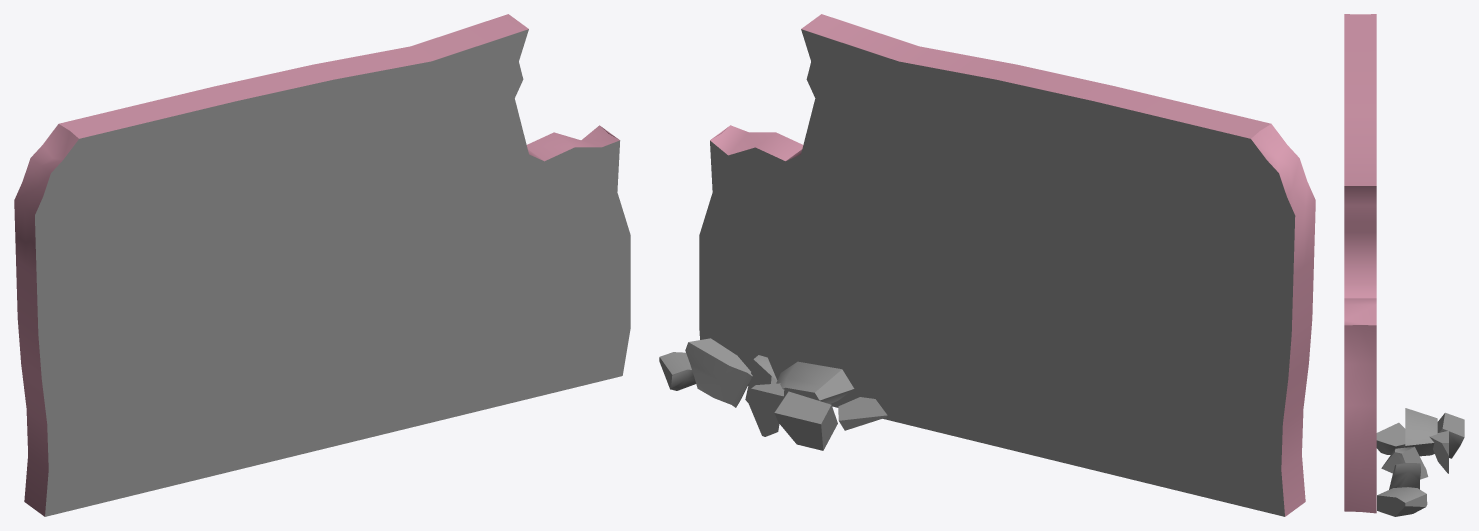
The model's file is mur casser.fbx.
3 views of the same model, side by side, from view 1: azimuth 30°, elevation 25°; view 2: azimuth 150°, elevation 25°; view 3: azimuth 270°, elevation 25° (orthographic). The views are drawn at different scales.
Visible parts, largest first — view 1: mur casse deplie; view 2: mur casse deplie; view 3: mur casse deplie.
Boxes of the visible parts, <box> form: mur casse deplie: <box>14,14,630,516</box>; mur casse deplie: <box>659,14,1315,516</box>; mur casse deplie: <box>1344,14,1464,516</box>.
Size of the model in its own units: 526 by 319 by 113.
